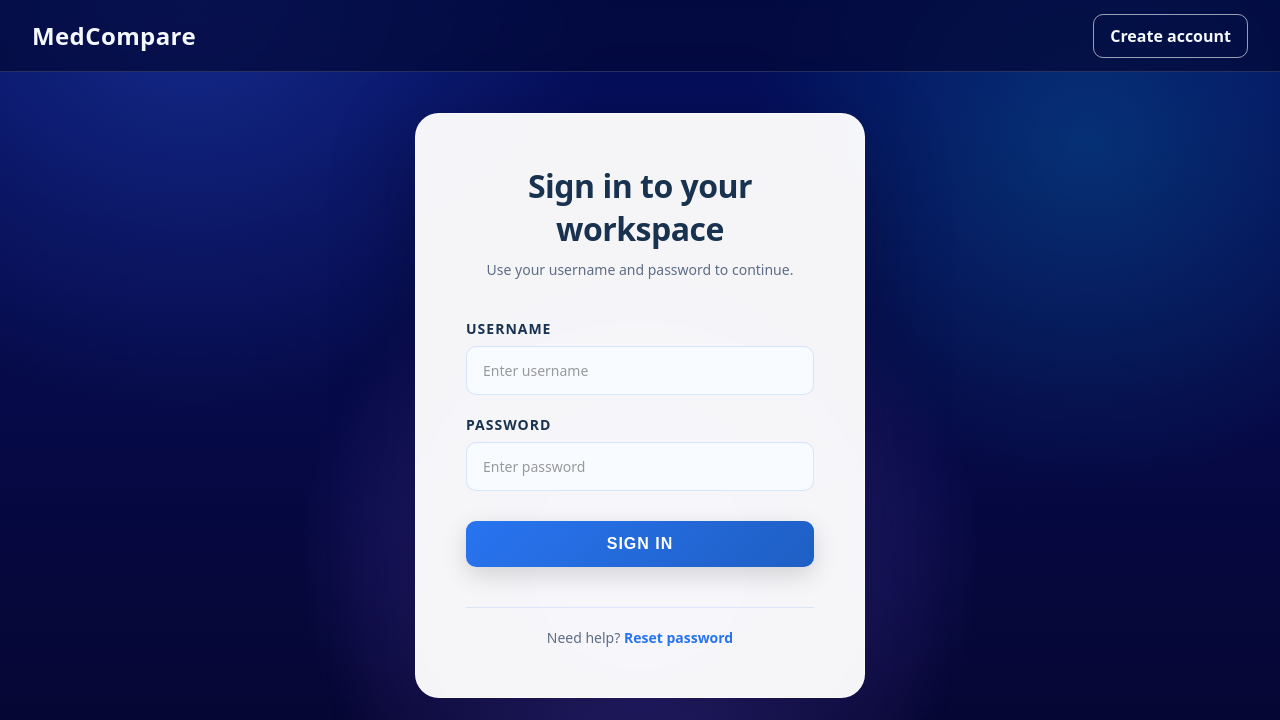
it: Login › shows backend error when login fails
Step 1. Type "user1" into the field labelled "Username" → (640, 370), box [466,346,814,394]
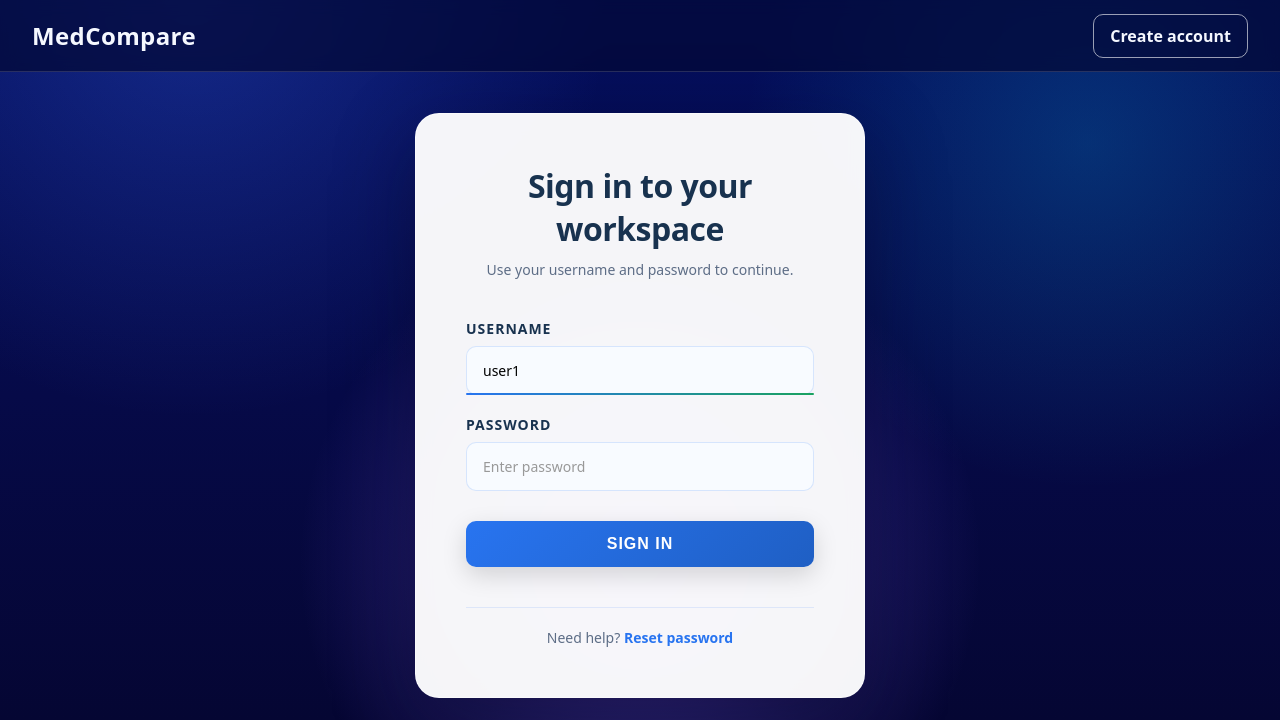
Step 2. Type "bad" into the password field labelled "Password" → (640, 466), box [466,442,814,490]
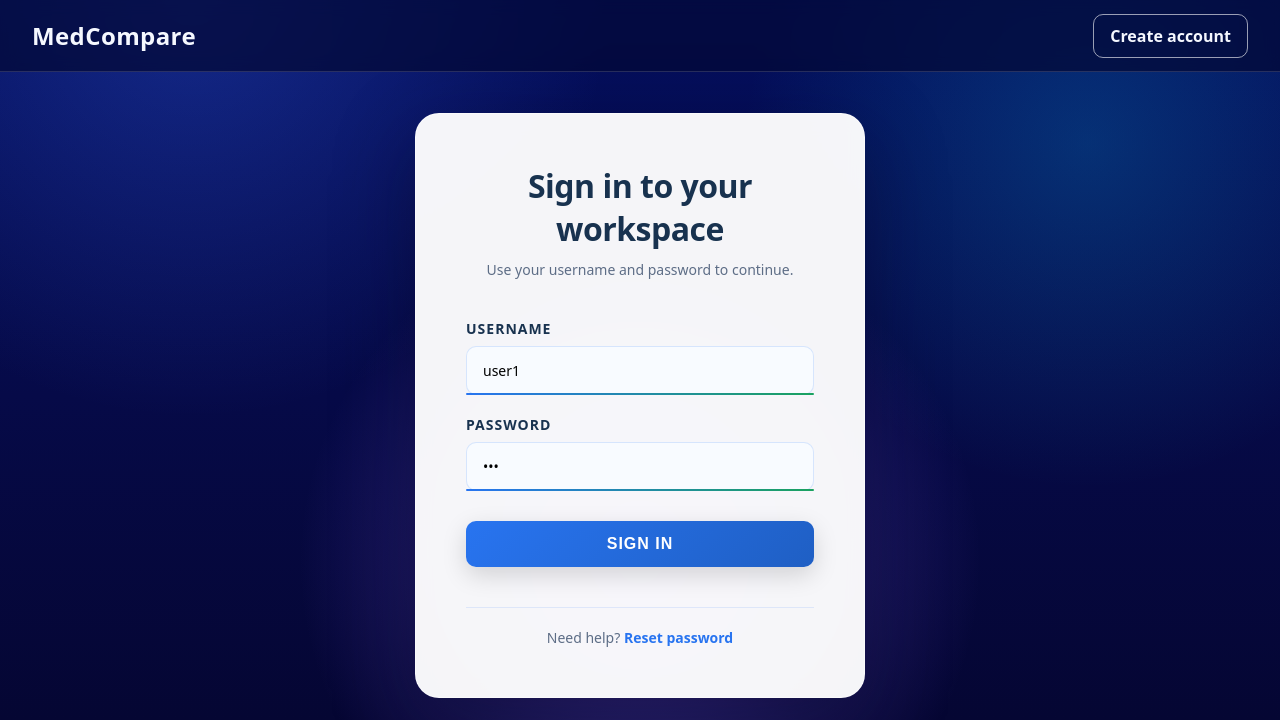
Step 3. Click the button "Sign In" → click(640, 544), box [466,520,814,566]
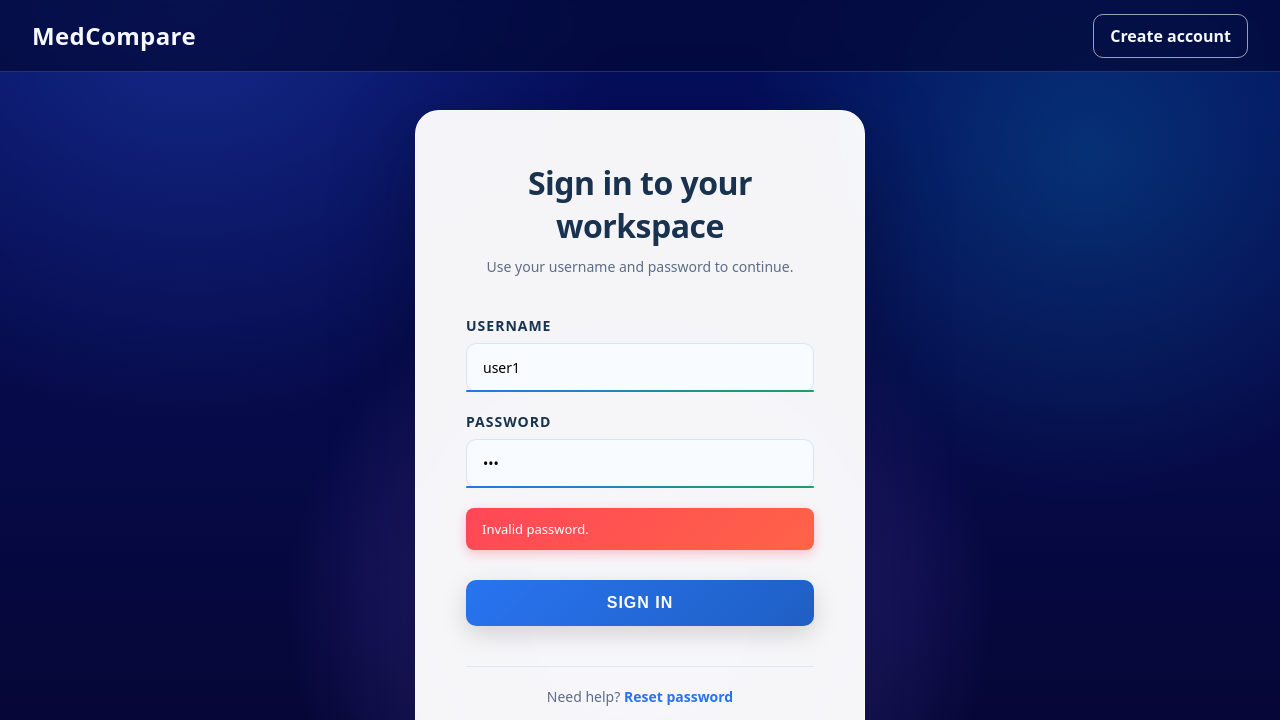
Expected: the text "Invalid password." is shown, [466,508,814,550]
